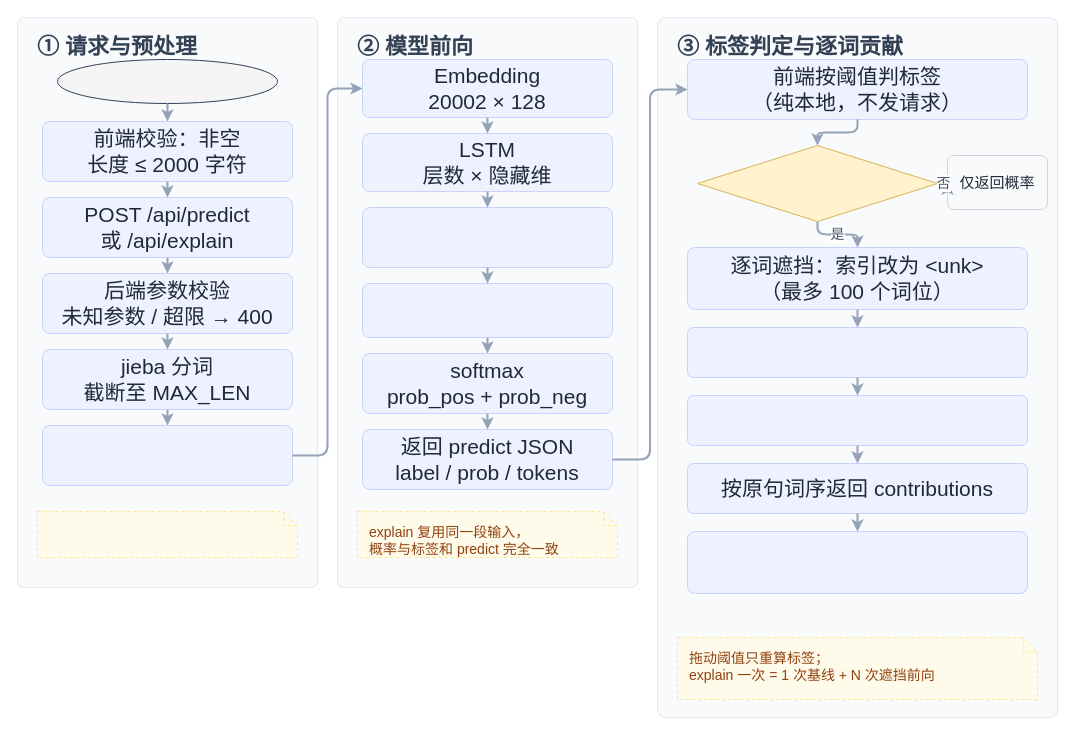
The diagram is 1075 pixels wide and 735 high, and some of its shapes have lost their labels. Each missing label, with the centre of its shape:
"Linear hidden → 2" belongs at (x=487, y=310).
"Δ = P(遮挡后) − P(原句)" belongs at (x=857, y=420).
"分词与索引只在服务端完成" belongs at (x=167, y=534).
"按 lengths 取 最后一个真实词" belongs at (x=487, y=237).
"查表转索引、补 <pad> 记录 lengths" belongs at (x=167, y=455).
"正向蓝 / 负向橙着色 右侧按影响排序" belongs at (x=857, y=562).
"每个词位重新前向一次" belongs at (x=857, y=352).
"请求 explain？" belongs at (x=817, y=183).
"输入评论文本" belongs at (x=167, y=81).
